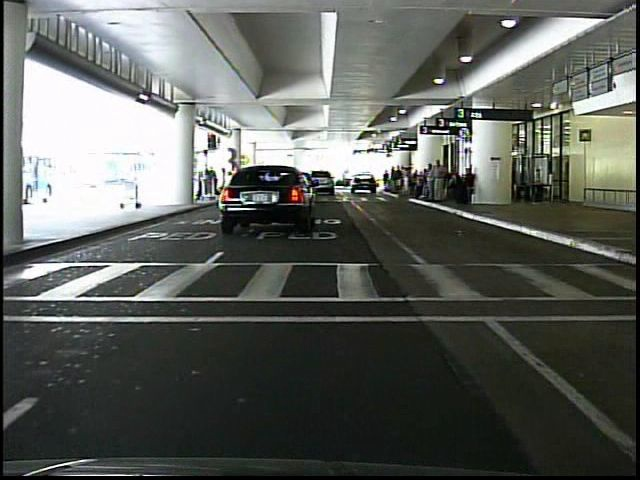person: (429, 155, 451, 208), (127, 165, 148, 210)
